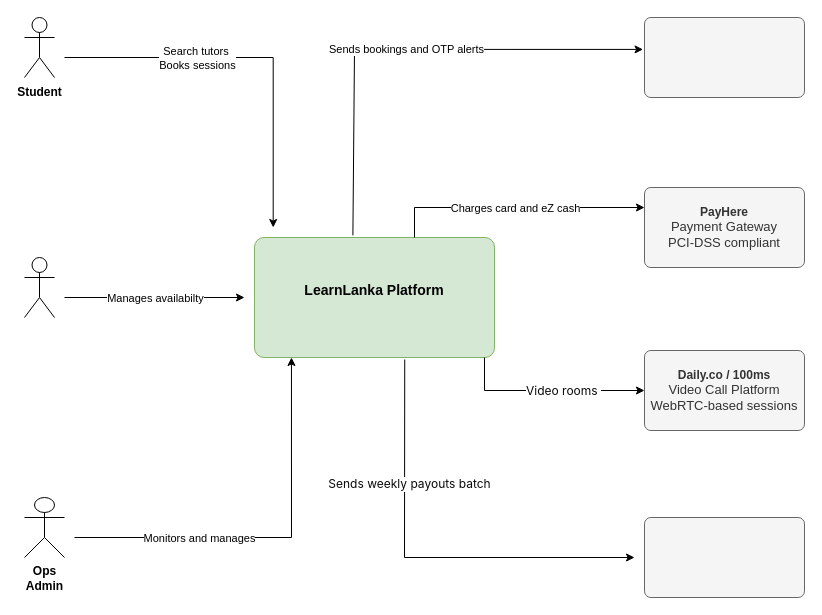
This 822x615 diagram has some shape labels left out. The shapes that lost their labels are listed below. From the top down, each one's centre as x and y in pixels, then its label:
(724,57): SMS Gateway Notify.lk / Textit OTP and notifications
(39,287): Tutor
(724,557): Sampath Vishwa Bank Transfer Service Weekly tutor payouts
